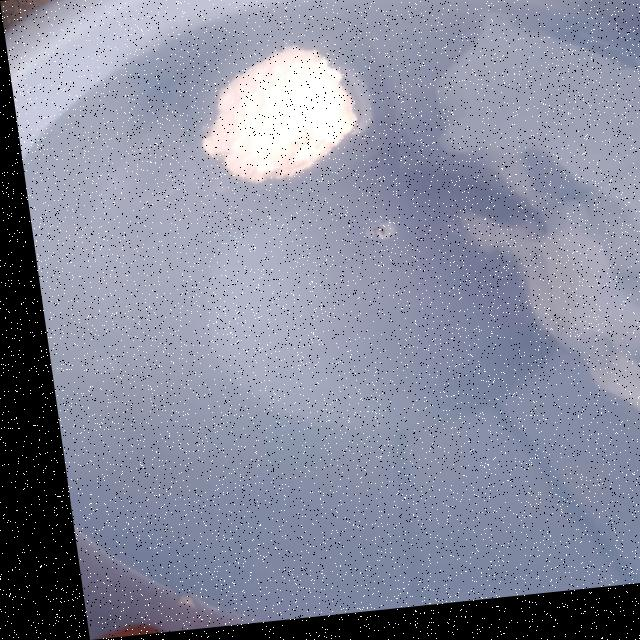thermocoal: (170, 29, 409, 228)
